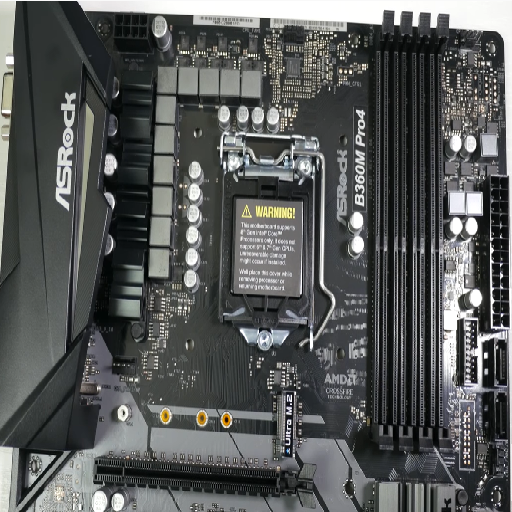CPU: (212, 126, 333, 345)
GPU: (88, 447, 321, 507)
MOTHERBOARD: (5, 1, 509, 512)
RAM: (363, 9, 464, 454)
SSD: (268, 364, 303, 461)
